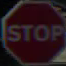Stop: (2, 6, 62, 53)
